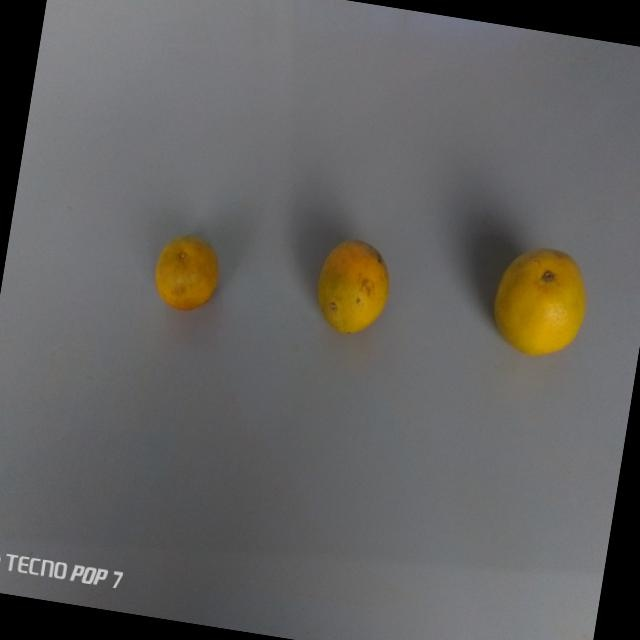agrume: (480, 231, 601, 371), (305, 227, 403, 352), (145, 221, 231, 329)
